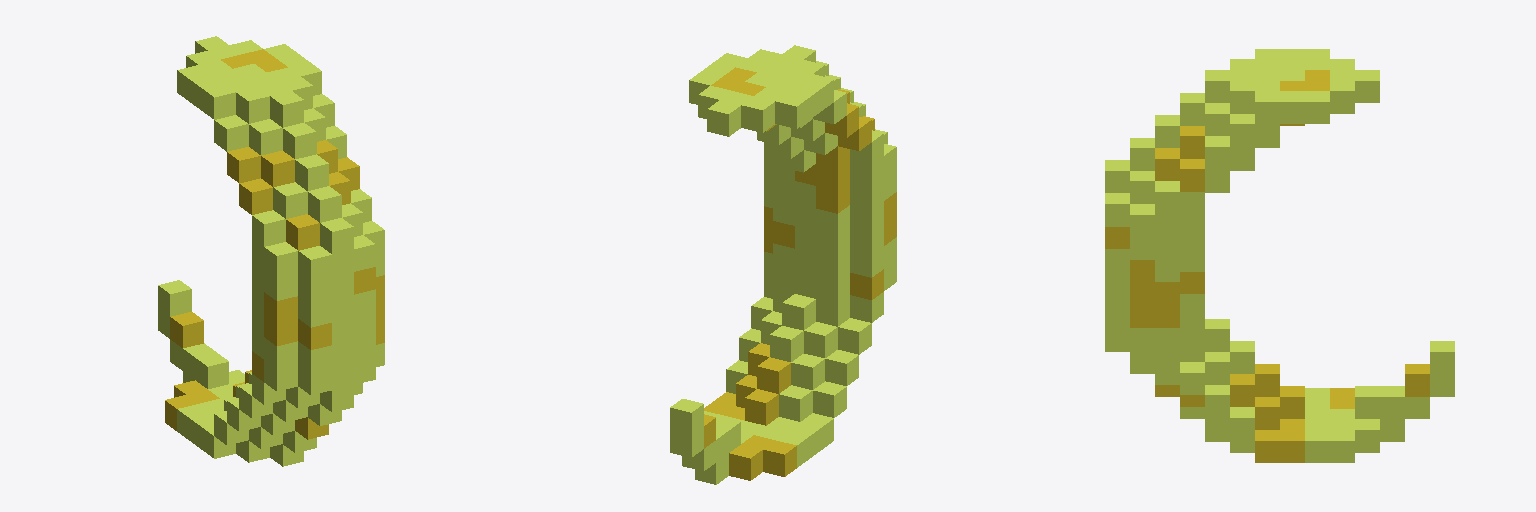
3 renders of one model, left to right at view 1: azimuth 30°, elevation 25°; view 2: azimuth 150°, elevation 25°; view 3: azimuth 270°, elevation 25°, orthographic.
Parts seen in each view (by area): view 1: object 1; view 2: object 1; view 3: object 1.
Part boxes in pixels (bbox=[...]): object 1: bbox=[158, 36, 384, 466]; object 1: bbox=[670, 45, 896, 484]; object 1: bbox=[1105, 49, 1454, 462].
Bounding box in the file's own units: 0.5 × 1.6 × 1.4.
1 materials, 1 textured.